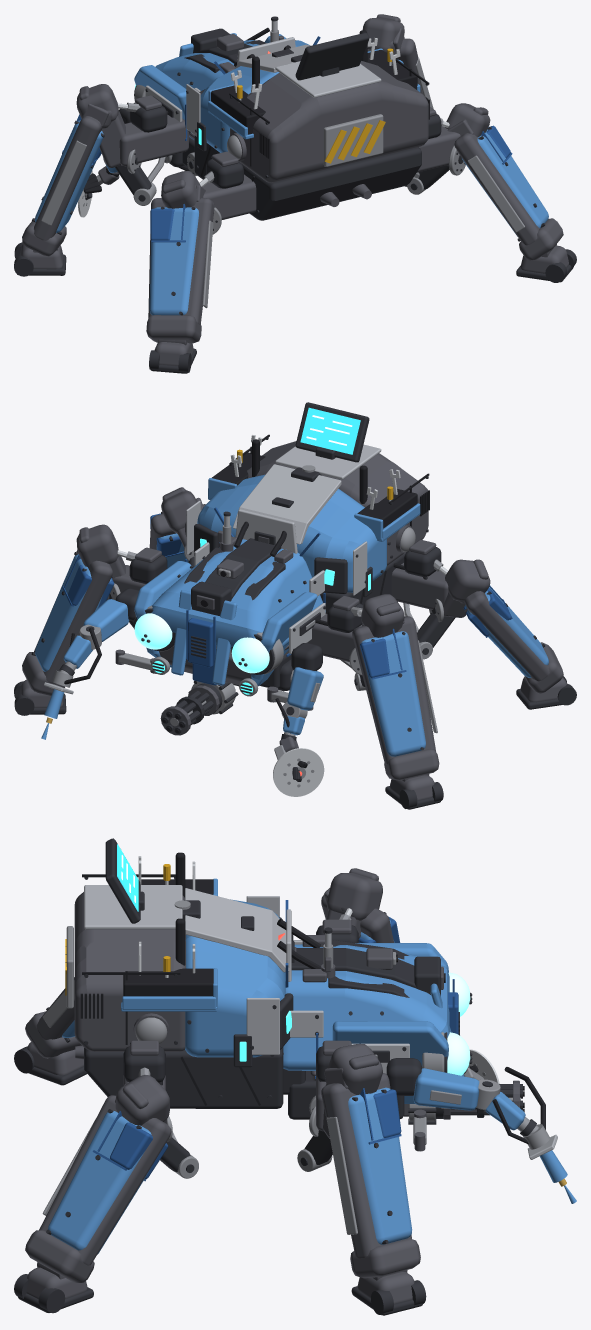
The model's file is spider_boss.glb.
The picture shows the model from 3 angles, top to bottom: view 1: azimuth 30°, elevation 25°; view 2: azimuth 150°, elevation 25°; view 3: azimuth 270°, elevation 25°; orthographic projection. The views are drawn at different scales.
Parts seen in each view (by area): view 1: abdomen, leg_bl_tibia, leg_br_tibia, head, leg_fl_tibia, leg_fl_coxa, leg_bl_coxa, tablet, leg_fl_femur, leg_br_coxa, leg_br_foot, leg_bl_femur (+6 smaller); view 2: abdomen, head, leg_fl_tibia, leg_fr_tibia, leg_bl_tibia, leg_bl_coxa, tablet, leg_fl_coxa, leg_bl_femur, arm_saw_disc, leg_fr_femur, gatling (+13 smaller); view 3: abdomen, head, leg_fr_tibia, leg_br_tibia, arm_welder_upper, leg_br_coxa, leg_br_foot, leg_fl_femur, leg_fr_foot, leg_bl_tibia, leg_fr_femur, leg_br_femur (+9 smaller).
Boxes of the visible parts, bbox=[...] form: abdomen: bbox=[186, 30, 429, 220]; leg_bl_tibia: bbox=[146, 185, 214, 343]; leg_br_tibia: bbox=[447, 119, 563, 260]; head: bbox=[134, 16, 297, 176]; leg_fl_tibia: bbox=[22, 103, 118, 256]; leg_fl_coxa: bbox=[115, 95, 188, 205]; leg_bl_coxa: bbox=[199, 151, 256, 219]; tablet: bbox=[295, 32, 369, 80]; leg_fl_femur: bbox=[76, 84, 141, 173]; leg_br_coxa: bbox=[407, 107, 460, 194]; leg_br_foot: bbox=[516, 244, 576, 282]; leg_bl_femur: bbox=[161, 171, 221, 234]; abdomen: bbox=[186, 434, 429, 613]; head: bbox=[115, 511, 325, 715]; leg_fl_tibia: bbox=[352, 616, 439, 780]; leg_fr_tibia: bbox=[22, 549, 118, 695]; leg_bl_tibia: bbox=[459, 585, 563, 693]; leg_bl_coxa: bbox=[391, 539, 455, 659]; tablet: bbox=[295, 402, 369, 462]; leg_fl_coxa: bbox=[307, 596, 365, 690]; leg_bl_femur: bbox=[429, 559, 490, 622]; arm_saw_disc: bbox=[273, 748, 324, 796]; leg_fr_femur: bbox=[76, 524, 125, 600]; gatling: bbox=[160, 685, 219, 735]; abdomen: bbox=[65, 852, 320, 1108]; head: bbox=[283, 927, 472, 1151]; leg_fr_tibia: bbox=[321, 1067, 420, 1278]; leg_br_tibia: bbox=[25, 1084, 171, 1282]; arm_welder_upper: bbox=[413, 1068, 500, 1110]; leg_br_coxa: bbox=[123, 1040, 198, 1178]; leg_br_foot: bbox=[14, 1262, 93, 1313]; leg_fl_femur: bbox=[327, 868, 382, 942]; leg_fr_foot: bbox=[351, 1269, 426, 1315]; leg_bl_tibia: bbox=[25, 977, 81, 1058]; leg_fr_femur: bbox=[309, 1043, 382, 1138]; leg_br_femur: bbox=[115, 1075, 172, 1141].
Bounding box in the file's own units: 13.92 × 8.14 × 12.57.
